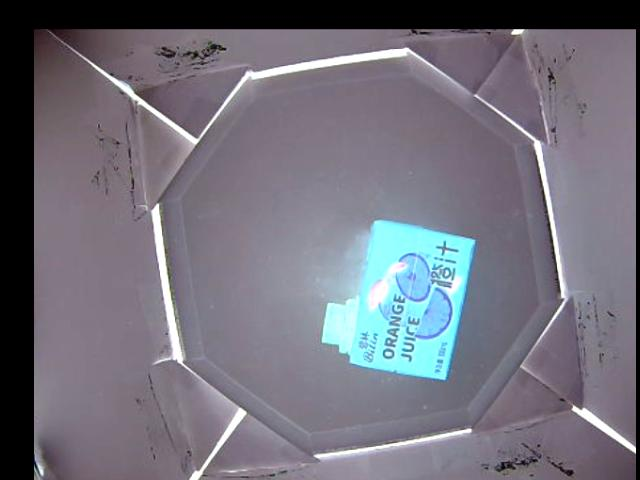Bottle: (322, 218, 475, 382)
